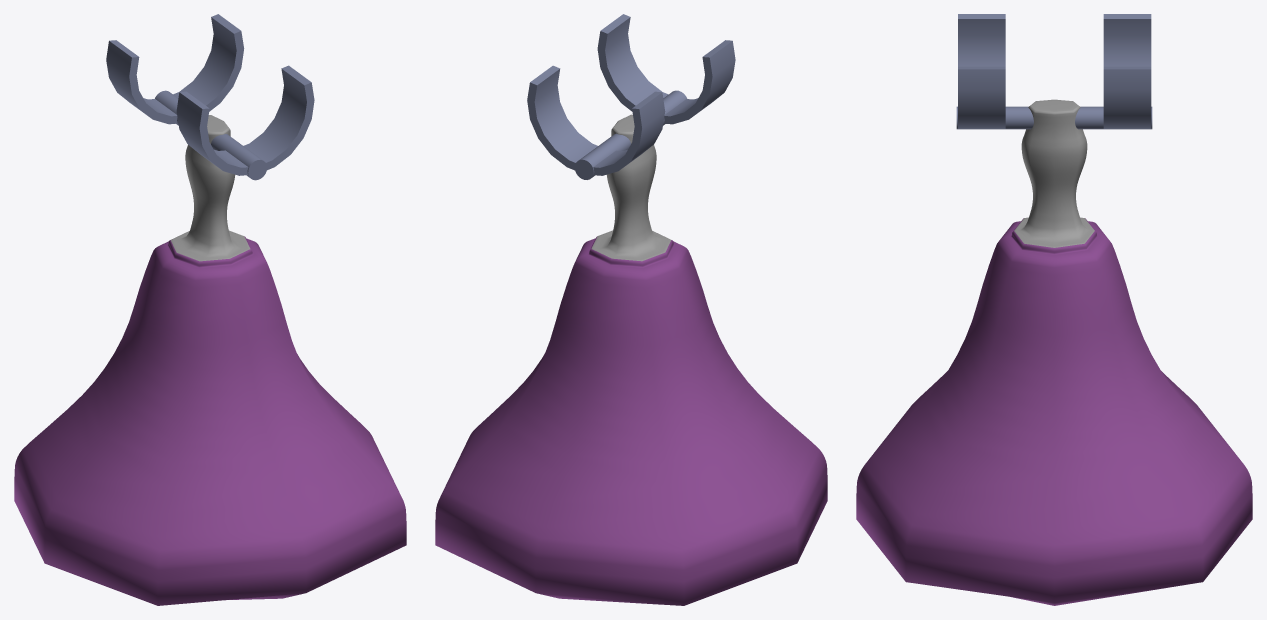
3 renders of one model, left to right at view 1: azimuth 30°, elevation 25°; view 2: azimuth 150°, elevation 25°; view 3: azimuth 270°, elevation 25°, orthographic. The views are drawn at different scales.
Visible parts, largest first — view 1: pCube1, pCylinder8, pCylinder9, pCylinder10; view 2: pCube1, pCylinder9, pCylinder8, pCylinder10; view 3: pCube1, pCylinder9, pCylinder8, pCylinder10.
Part boxes in pixels (x1,y1,x2,y2): pCube1: (14, 115, 406, 605); pCylinder8: (176, 65, 314, 175); pCylinder9: (106, 14, 244, 124); pCylinder10: (155, 90, 267, 180); pCube1: (435, 114, 827, 605); pCylinder9: (527, 65, 665, 175); pCylinder8: (597, 14, 735, 124); pCylinder10: (574, 90, 687, 179); pCube1: (856, 99, 1252, 605); pCylinder9: (1103, 14, 1151, 128); pCylinder8: (958, 14, 1005, 128); pCylinder10: (956, 106, 1152, 129).
Size of the model in its own units: 5.77 by 8.18 by 5.77.
